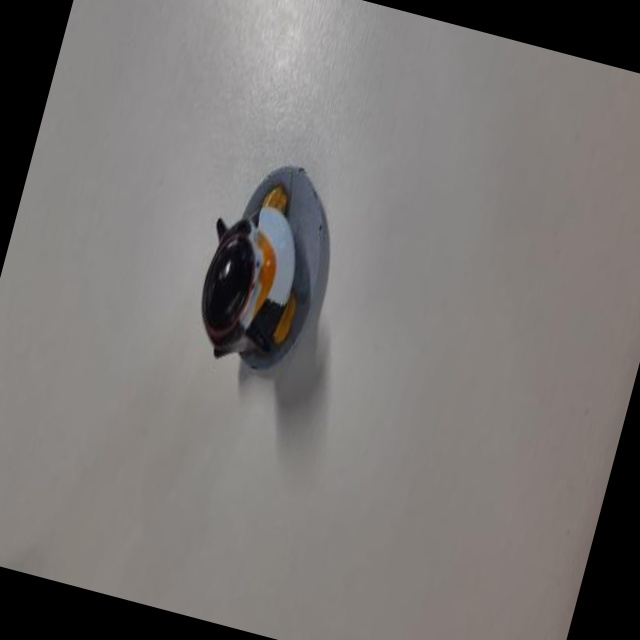Penguin: (170, 122, 366, 408)
